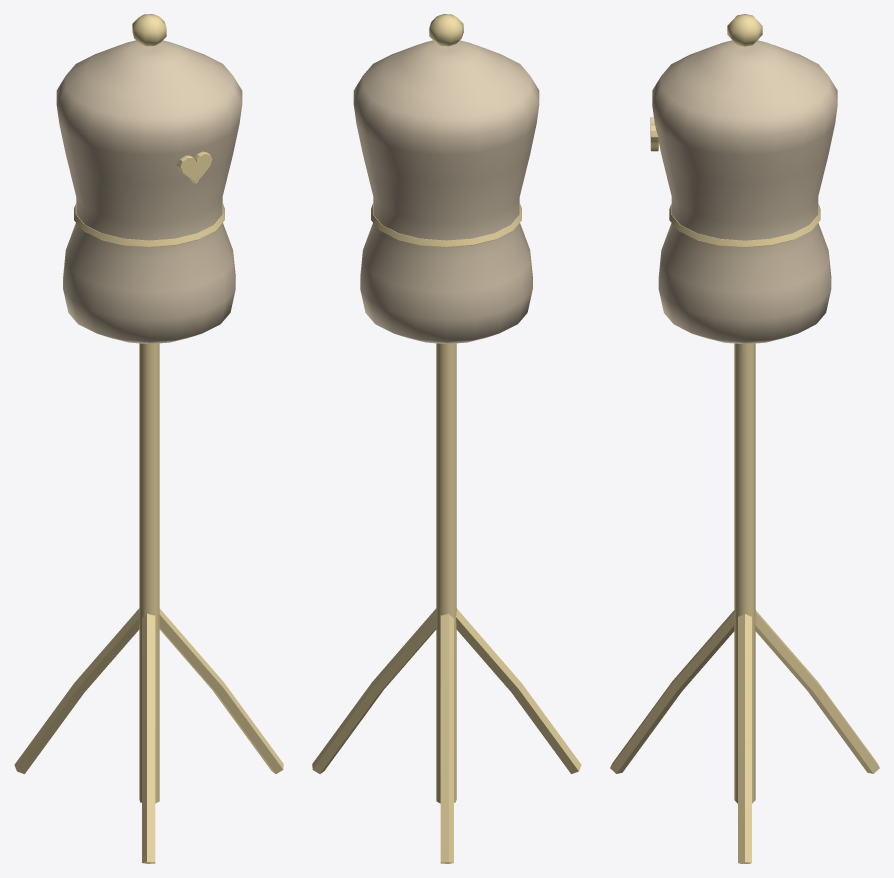
Rendered from dress_form_stand.glb.
3 views of the same model, side by side, from view 1: azimuth 30°, elevation 25°; view 2: azimuth 150°, elevation 25°; view 3: azimuth 270°, elevation 25° (orthographic).
Visible parts, largest first — view 1: dress_form_stand; view 2: dress_form_stand; view 3: dress_form_stand.
Part boxes in pixels (x1=…): dress_form_stand: x1=14, y1=14, x2=283, y2=863; dress_form_stand: x1=312, y1=14, x2=581, y2=863; dress_form_stand: x1=610, y1=14, x2=879, y2=863.
Bounding box in the file's own units: 0.4692 × 1.64 × 0.5083.
